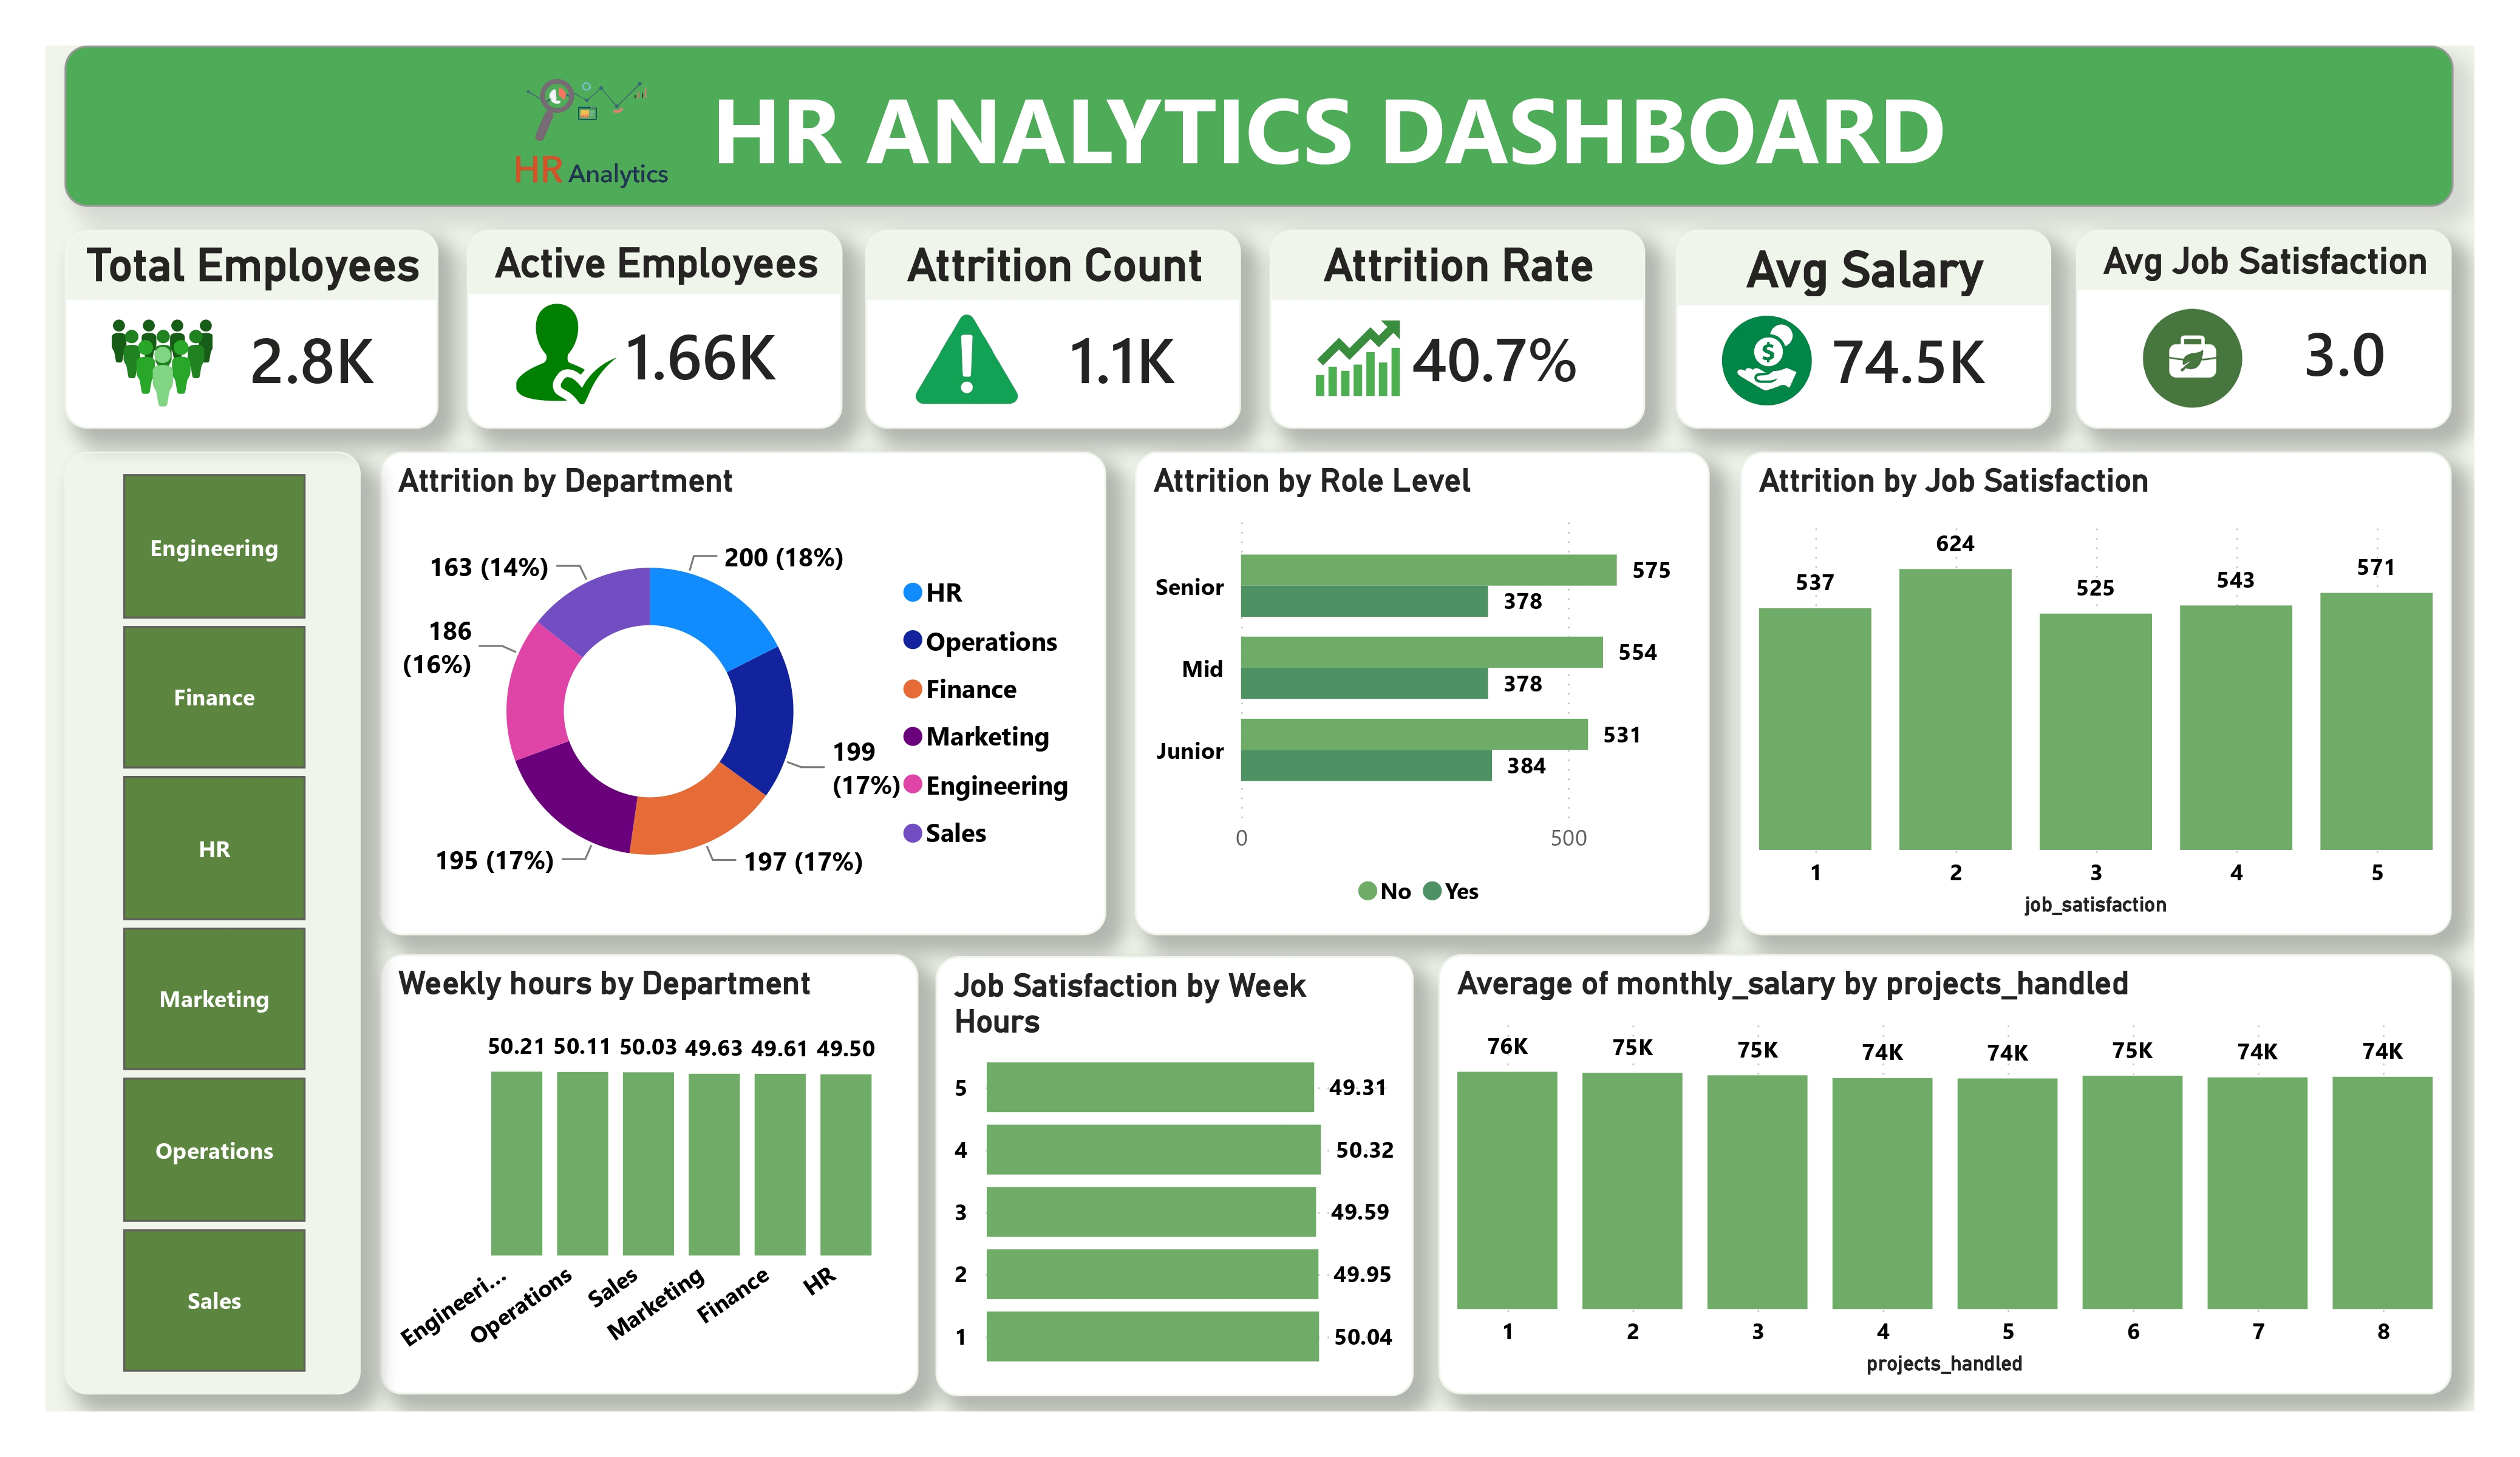

The dashboard page shown, as its layout file describes it:
{"tool":"powerbi","page":{"name":"HR Data Analysis","canvas":[1280,720],"ordinal":0},"visuals":[{"type":"textbox","box":[9.6,0,1259,85],"z":0},{"type":"image","box":[230.4,8.4,113.4,68.8],"z":1000},{"type":"cardVisual","title":"Total Employees","fields":{"Data":["CountNonNull(employee_performance_workload_attrition.employee_id)"]},"box":[9.6,97.4,197.6,104.3],"z":2000},{"type":"cardVisual","title":"Active Employees","fields":{"Data":["CountNonNull(employee_performance_workload_attrition.employee_id)"]},"box":[222.3,97.4,197.6,104.3],"z":3000},{"type":"cardVisual","title":"Attrition Count","fields":{"Data":["Sum(employee_performance_workload_attrition.AttritionCount)"]},"box":[432.2,97.4,197.6,104.3],"z":4000},{"type":"cardVisual","title":"Attrition Rate","fields":{"Data":["employee_performance_workload_attrition.Attrition Percentage"]},"box":[644.9,97.4,197.6,104.3],"z":5000},{"type":"cardVisual","title":"Avg Salary","fields":{"Data":["Avg(employee_performance_workload_attrition.monthly_salary)"]},"box":[859,97.4,197.6,104.3],"z":6000},{"type":"cardVisual","title":"Avg Job Satisfaction","fields":{"Data":["Avg(employee_performance_workload_attrition.job_satisfaction)"]},"box":[1070.3,97.4,197.6,104.3],"z":7000},{"type":"image","box":[27.4,140,68.6,53.5],"z":8000},{"type":"image","box":[240.1,135.8,68.6,53.5],"z":9000},{"type":"image","box":[1089.5,133.1,83.7,61.7],"z":10000},{"type":"image","box":[451.5,140,68.6,53.5],"z":11000},{"type":"image","box":[657.3,135.8,68.6,53.5],"z":12000},{"type":"image","box":[871.4,137.2,71.4,57.6],"z":13000},{"type":"donutChart","title":"Attrition by Department ","fields":{"Category":["employee_performance_workload_attrition.department"],"Y":["Sum(employee_performance_workload_attrition.AttritionCount)"]},"box":[176.1,213.5,382.4,255.8],"z":14000},{"type":"clusteredBarChart","title":"Attrition by Role Level","fields":{"Category":["employee_performance_workload_attrition.role_level"],"Y":["CountNonNull(employee_performance_workload_attrition.attrition)"],"Series":["employee_performance_workload_attrition.attrition"]},"box":[574.3,213.5,302.8,255.8],"z":15000},{"type":"columnChart","title":"Weekly hours by Department ","fields":{"Category":["employee_performance_workload_attrition.department"],"Y":["Avg(employee_performance_workload_attrition.avg_weekly_hours)"]},"box":[176.1,479,283.5,231.6],"z":16000},{"type":"columnChart","title":"Attrition by Job Satisfaction","fields":{"Category":["employee_performance_workload_attrition.job_satisfaction"],"Y":["CountNonNull(employee_performance_workload_attrition.attrition)"]},"box":[893.3,214.1,374.6,255.2],"z":17000},{"type":"barChart","title":"Job Satisfaction by Week Hours","fields":{"Category":["employee_performance_workload_attrition.job_satisfaction"],"Y":["Avg(employee_performance_workload_attrition.avg_weekly_hours)"]},"box":[469.3,480.2,252.1,231.6],"z":18000},{"type":"columnChart","fields":{"Category":["employee_performance_workload_attrition.projects_handled"],"Y":["Avg(employee_performance_workload_attrition.monthly_salary)"]},"box":[734.1,478.9,533.8,231.9],"z":19000},{"type":"slicer","fields":{"Values":["employee_performance_workload_attrition.department"]},"box":[9.7,213.5,156.8,497.1],"z":20000}]}

Visuals, with their boxes on the page's 1280x720 design canvas (x1, y1, x2, y2). These are canvas units, not pixel positions in the 2520x1457 screenshot, which may show the page scaled, cropped or inside an application window:
textbox: bbox(10, 0, 1269, 85)
image: bbox(230, 8, 344, 77)
"Total Employees" cardVisual: bbox(10, 97, 207, 202)
"Active Employees" cardVisual: bbox(222, 97, 420, 202)
"Attrition Count" cardVisual: bbox(432, 97, 630, 202)
"Attrition Rate" cardVisual: bbox(645, 97, 842, 202)
"Avg Salary" cardVisual: bbox(859, 97, 1057, 202)
"Avg Job Satisfaction" cardVisual: bbox(1070, 97, 1268, 202)
image: bbox(27, 140, 96, 194)
image: bbox(240, 136, 309, 189)
image: bbox(1090, 133, 1173, 195)
image: bbox(452, 140, 520, 194)
image: bbox(657, 136, 726, 189)
image: bbox(871, 137, 943, 195)
"Attrition by Department " donutChart: bbox(176, 214, 558, 469)
"Attrition by Role Level" clusteredBarChart: bbox(574, 214, 877, 469)
"Weekly hours by Department " columnChart: bbox(176, 479, 460, 711)
"Attrition by Job Satisfaction" columnChart: bbox(893, 214, 1268, 469)
"Job Satisfaction by Week Hours" barChart: bbox(469, 480, 721, 712)
columnChart - employee_performance_workload_attrition.projects_handled x Avg(employee_performance_workload_attrition.monthly_salary): bbox(734, 479, 1268, 711)
slicer - employee_performance_workload_attrition.department: bbox(10, 214, 166, 711)
